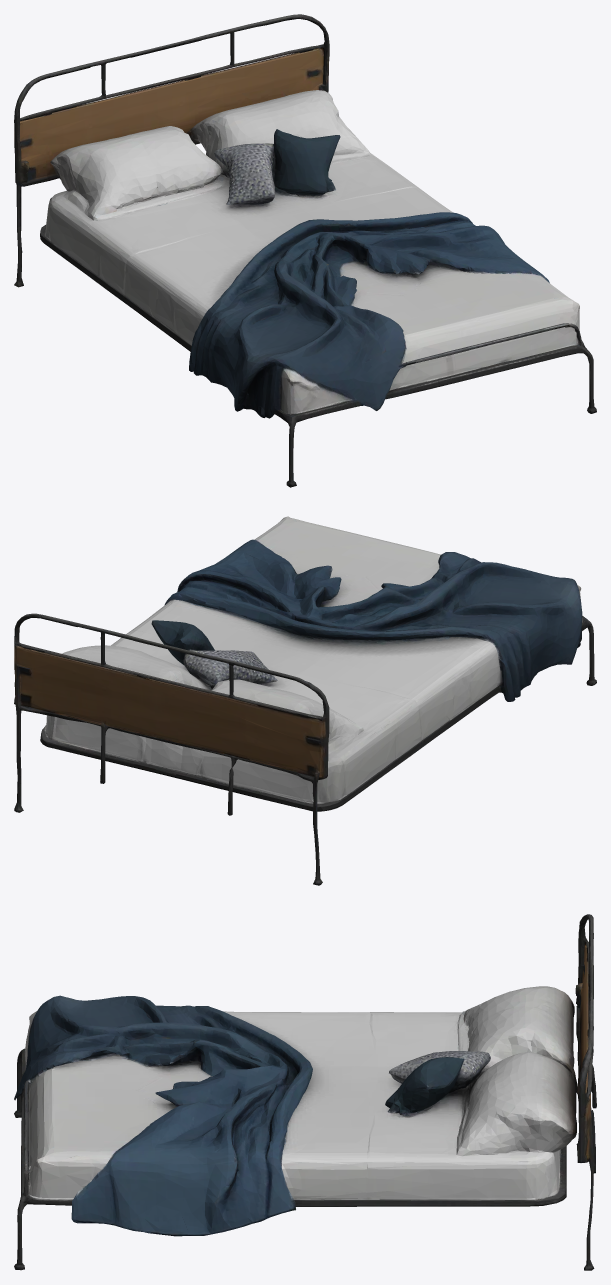
File: 78668390-0b5f-4255-92c3-f1b5bcd8fcb2.glb
The picture shows the model from 3 angles, top to bottom: view 1: azimuth 30°, elevation 25°; view 2: azimuth 150°, elevation 25°; view 3: azimuth 270°, elevation 25°; orthographic projection. The views are drawn at different scales.
Visible parts, largest first — view 1: world; view 2: world; view 3: world.
Boxes of the visible parts, bbox=[...] form: world: bbox=[14, 14, 596, 487]; world: bbox=[14, 516, 596, 885]; world: bbox=[14, 914, 596, 1270].
Size of the model in its own units: 0.6973 by 0.3992 by 0.9954.
1 material, 1 textured.
